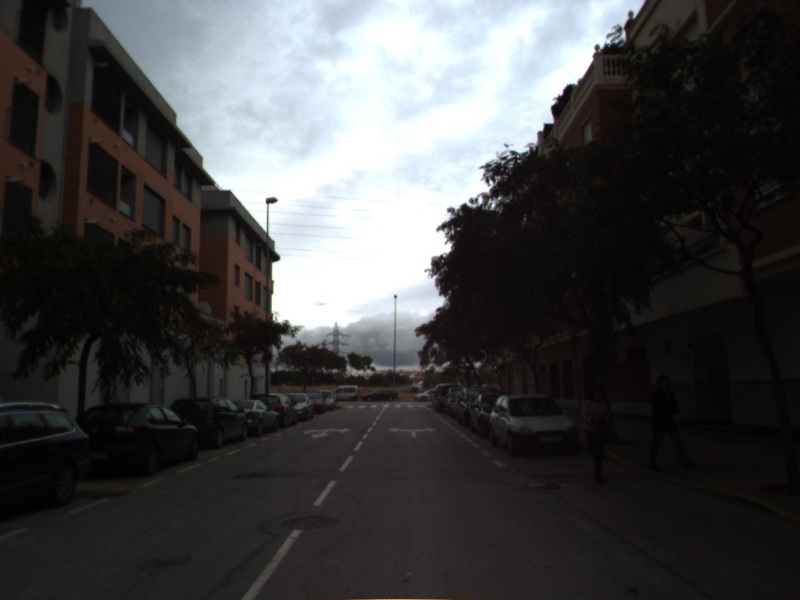LEFT_RIGHT: (388, 425, 439, 439)
